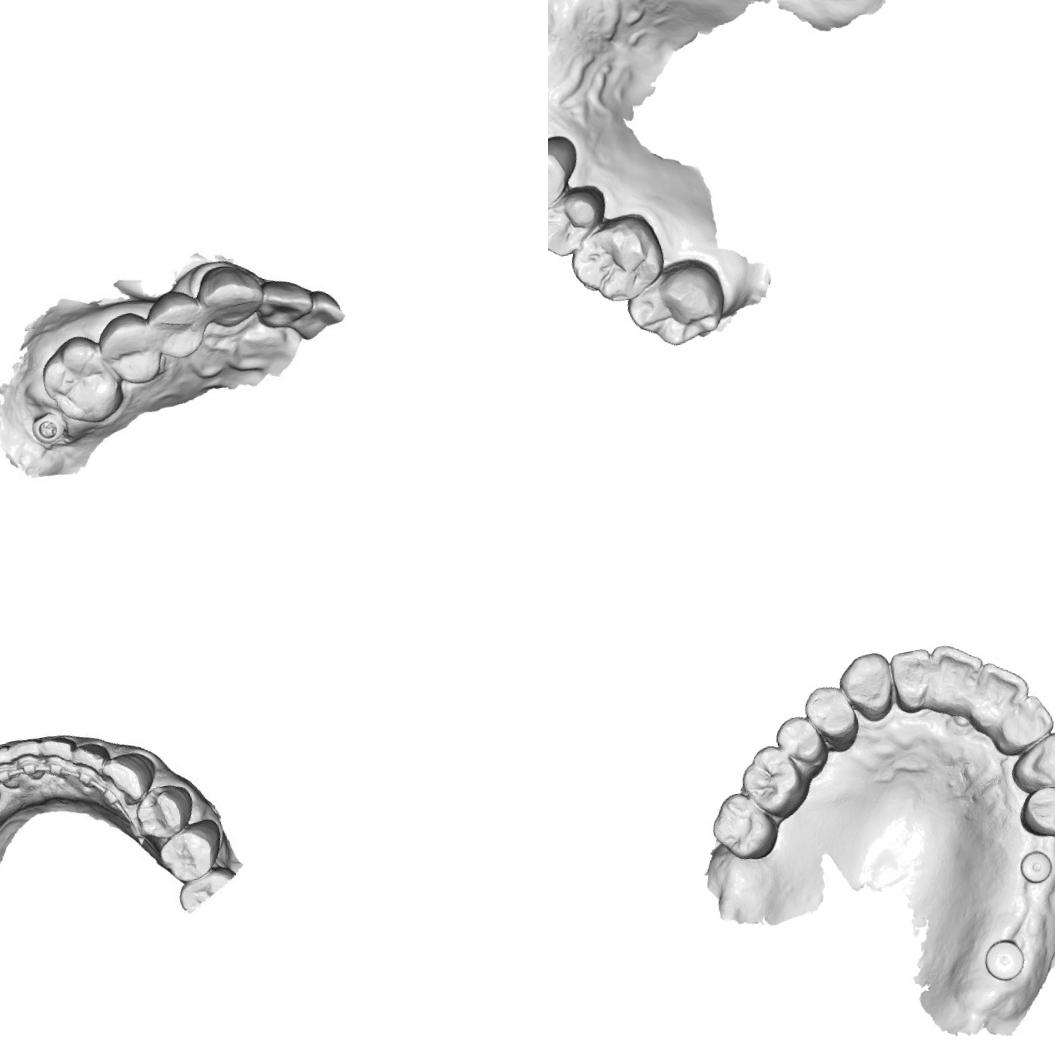canine: (193, 258, 269, 337), (832, 648, 901, 728), (1004, 727, 1055, 796), (97, 751, 158, 808)
implant: (978, 933, 1030, 986), (22, 402, 74, 450), (1014, 845, 1055, 887)
incisor: (961, 653, 1036, 732), (921, 636, 993, 718), (987, 688, 1055, 755), (884, 644, 943, 716), (254, 272, 314, 333), (35, 722, 81, 782), (5, 734, 50, 784), (68, 736, 115, 780), (0, 740, 18, 791)
molar: (618, 253, 732, 354), (562, 211, 666, 313), (37, 334, 124, 430), (733, 736, 814, 826), (702, 785, 786, 868)
premolar: (548, 186, 609, 264), (128, 776, 198, 843), (99, 310, 163, 383), (798, 678, 861, 752), (768, 708, 830, 772), (149, 292, 207, 360), (548, 131, 588, 222), (158, 828, 218, 882), (1012, 778, 1055, 845)
